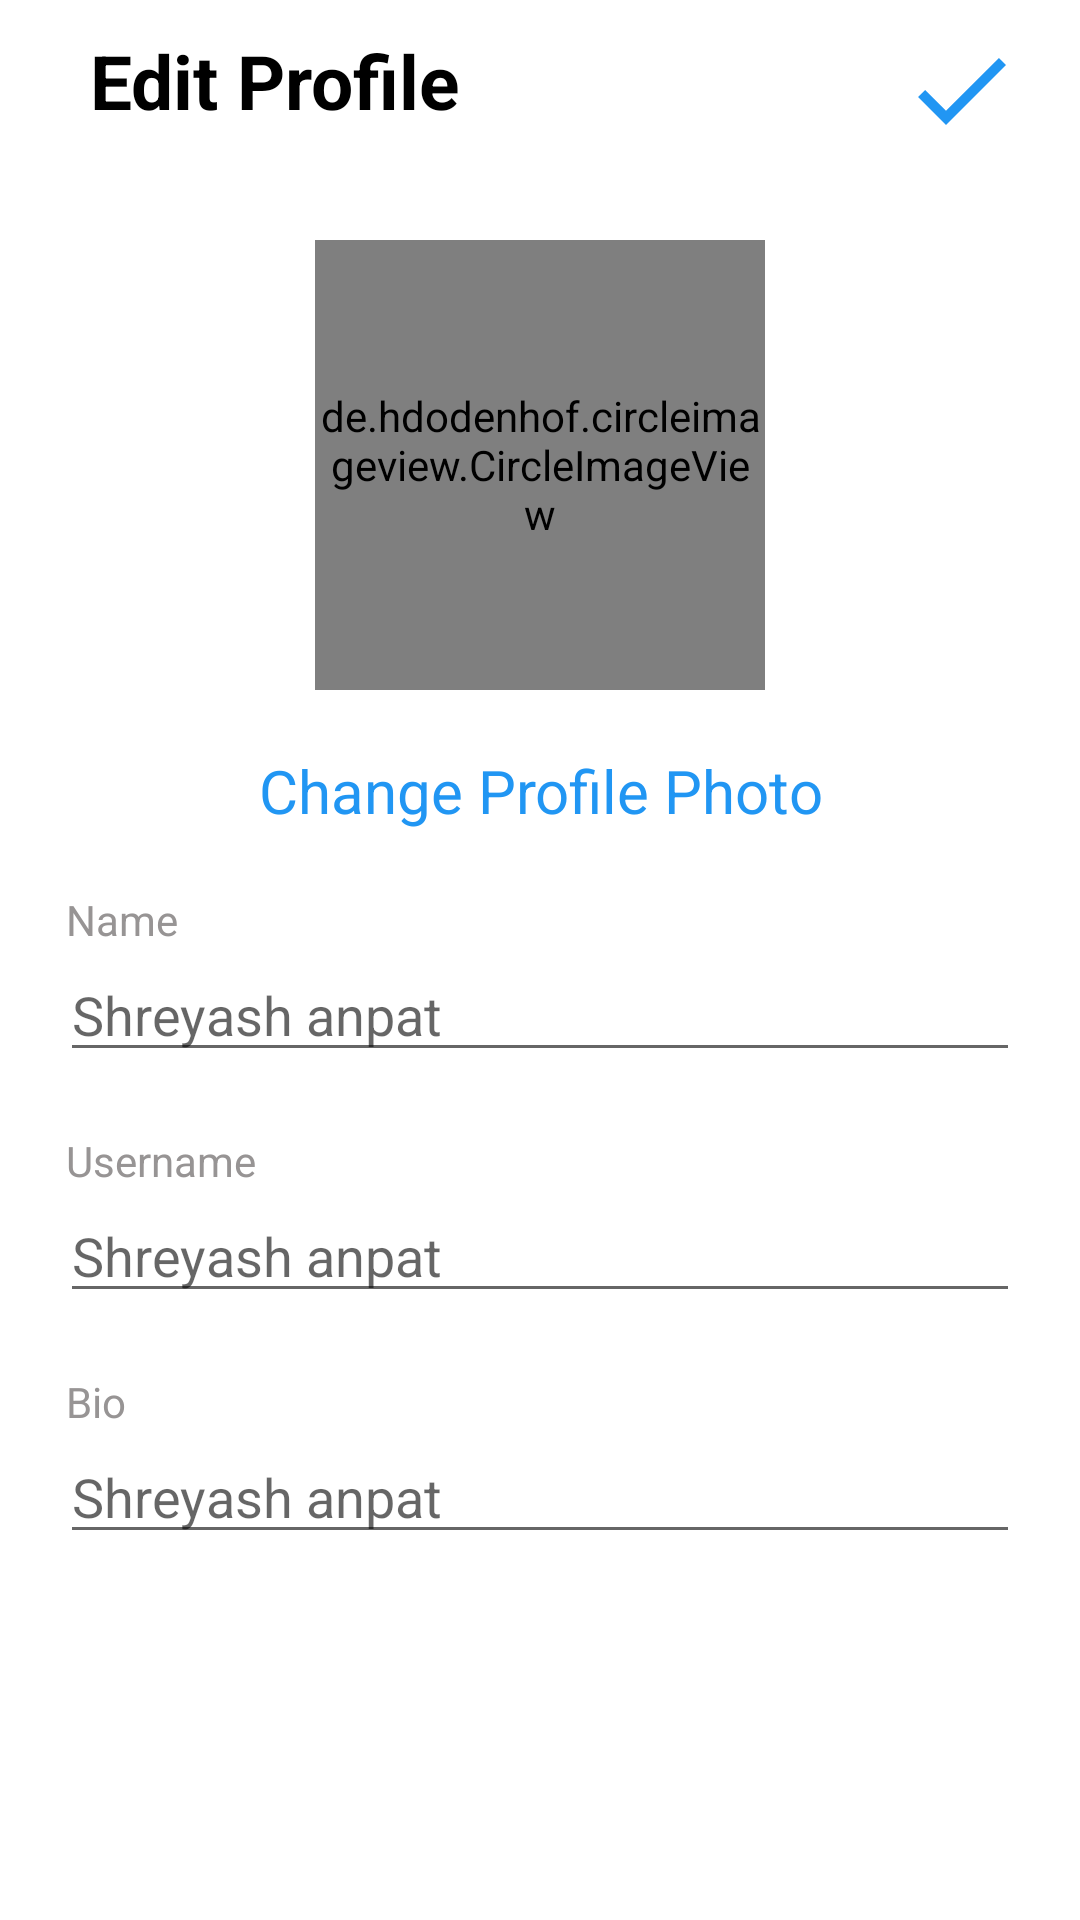

Icons on this 1080 × 1920 Android screen, each with its box as {"left": x1, "top": y1, "right": x2, "bottom": y2}:
check: {"left": 918, "top": 58, "right": 1006, "bottom": 125}
